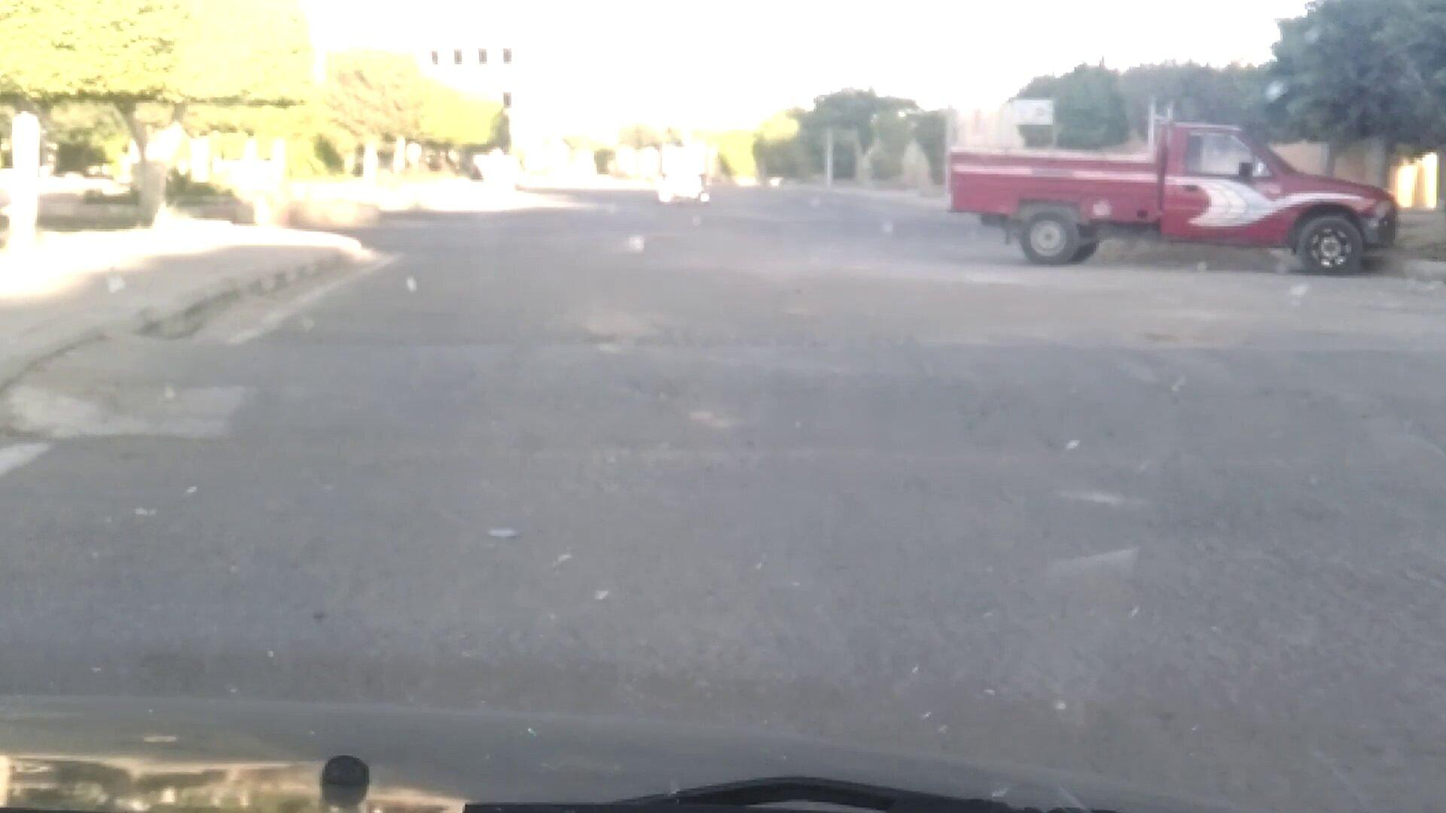Bump: (151, 312, 1446, 454)
